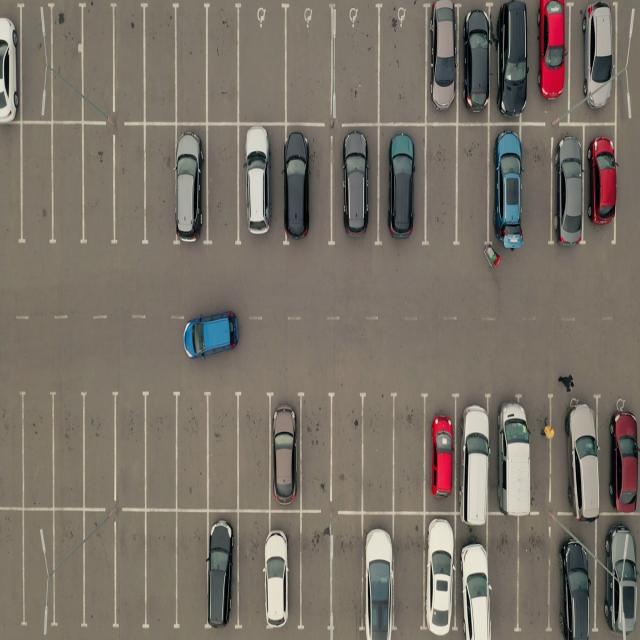space-empty: (375, 4, 425, 125), (286, 7, 337, 124), (238, 5, 288, 123), (332, 6, 380, 124), (46, 512, 88, 630), (16, 127, 54, 248), (204, 5, 242, 124), (142, 4, 180, 123), (46, 4, 84, 122), (518, 514, 556, 632), (175, 4, 212, 124), (205, 125, 242, 244), (78, 129, 115, 248), (112, 129, 149, 248), (331, 514, 367, 636), (17, 393, 54, 511), (79, 512, 116, 630), (17, 511, 54, 629), (328, 394, 366, 508), (50, 394, 87, 511), (78, 390, 115, 507), (50, 128, 86, 248), (115, 511, 151, 631), (111, 5, 148, 121), (142, 512, 178, 631), (237, 393, 274, 508), (143, 393, 180, 508), (78, 2, 114, 120), (457, 126, 492, 247), (176, 394, 213, 508), (392, 398, 429, 512), (358, 396, 395, 510), (141, 123, 176, 243), (115, 392, 151, 508), (205, 394, 241, 508), (296, 394, 332, 508), (423, 123, 457, 243), (235, 512, 269, 632), (15, 4, 50, 120), (296, 513, 330, 632), (394, 514, 427, 636), (486, 516, 519, 636), (177, 512, 210, 630), (524, 125, 554, 244), (0, 385, 24, 507), (0, 509, 24, 630), (0, 125, 23, 248)
space-occupied: (282, 128, 331, 248), (553, 392, 600, 515), (490, 394, 536, 518), (570, 2, 617, 122), (381, 123, 428, 241), (332, 129, 379, 246), (240, 124, 284, 246), (553, 518, 597, 636), (532, 0, 572, 119), (458, 392, 497, 514), (600, 519, 640, 637), (421, 512, 458, 637), (602, 399, 640, 518), (493, 3, 529, 123), (458, 518, 494, 638), (424, 5, 460, 124), (422, 394, 458, 512), (265, 512, 300, 631), (488, 126, 522, 247), (361, 514, 394, 637), (176, 128, 210, 247), (267, 393, 302, 507), (552, 127, 586, 242), (462, 7, 495, 123), (207, 512, 238, 631), (584, 126, 614, 236), (0, 5, 21, 123)
